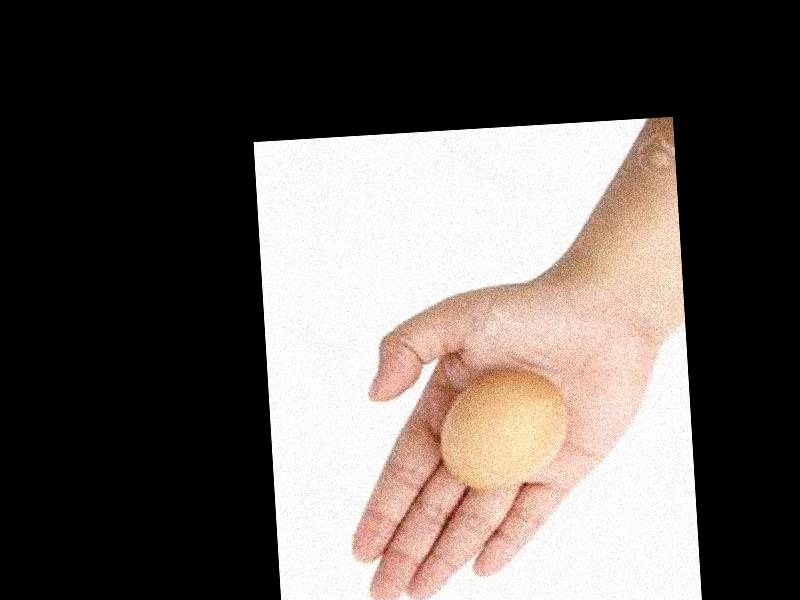Eggs: (437, 365, 570, 489)
